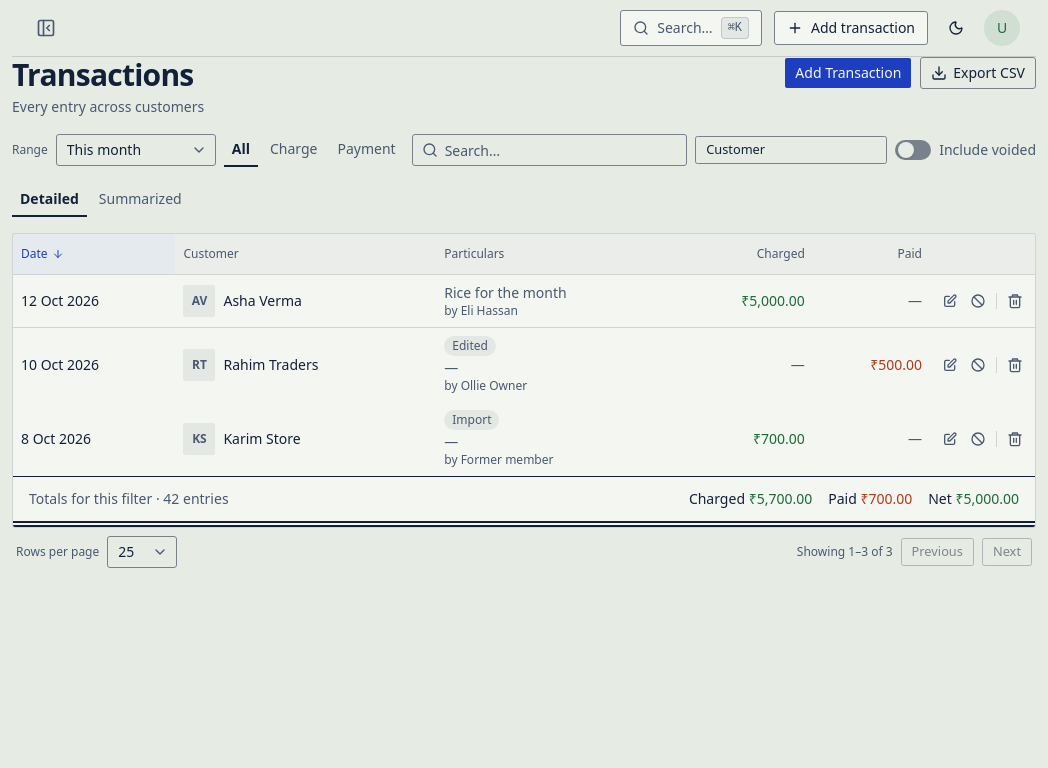
Test case: S-35 transactions page v2 › filters write to the URL and reach both queries (type, voided, text search)
The image size is (1048, 768).
// Type pill
Click the button "Payment" at (367, 150), box [330,133,404,167]
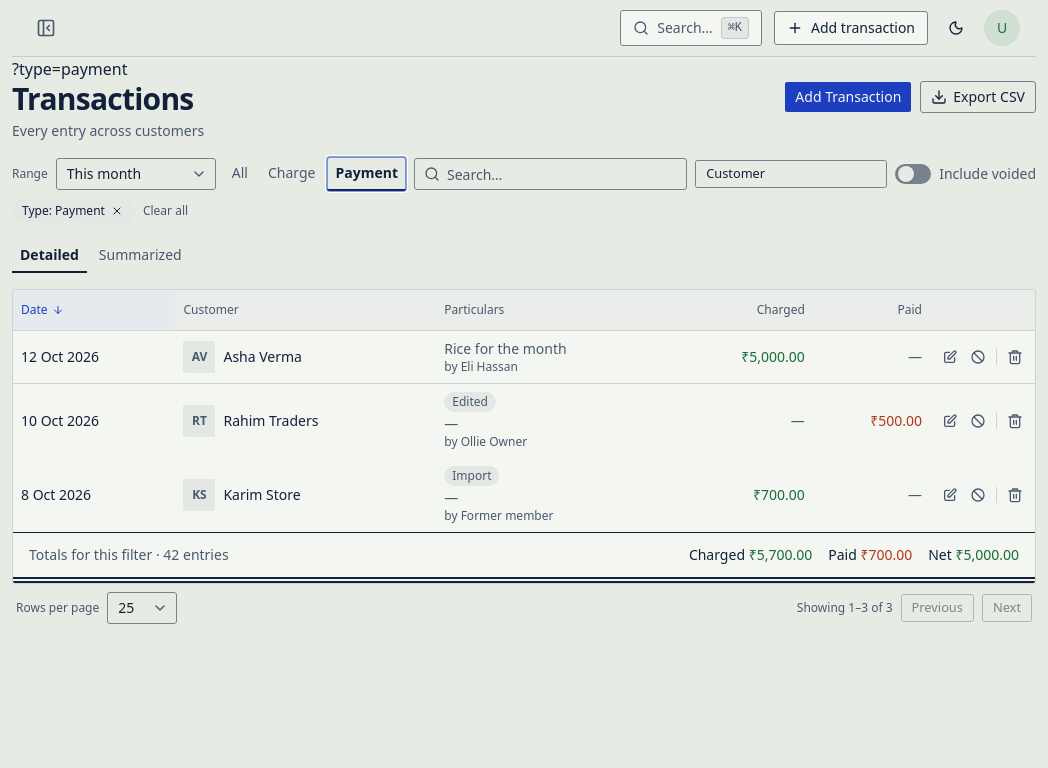
Now the text "Type: Payment" is shown, box [12,199,135,223]
Now the text with test id "url" shows "type=payment", box [12,58,128,80]
// Include voided — a switch since L-09.
Click the switch named "Include voided" at (913, 174), box [895,164,931,184]
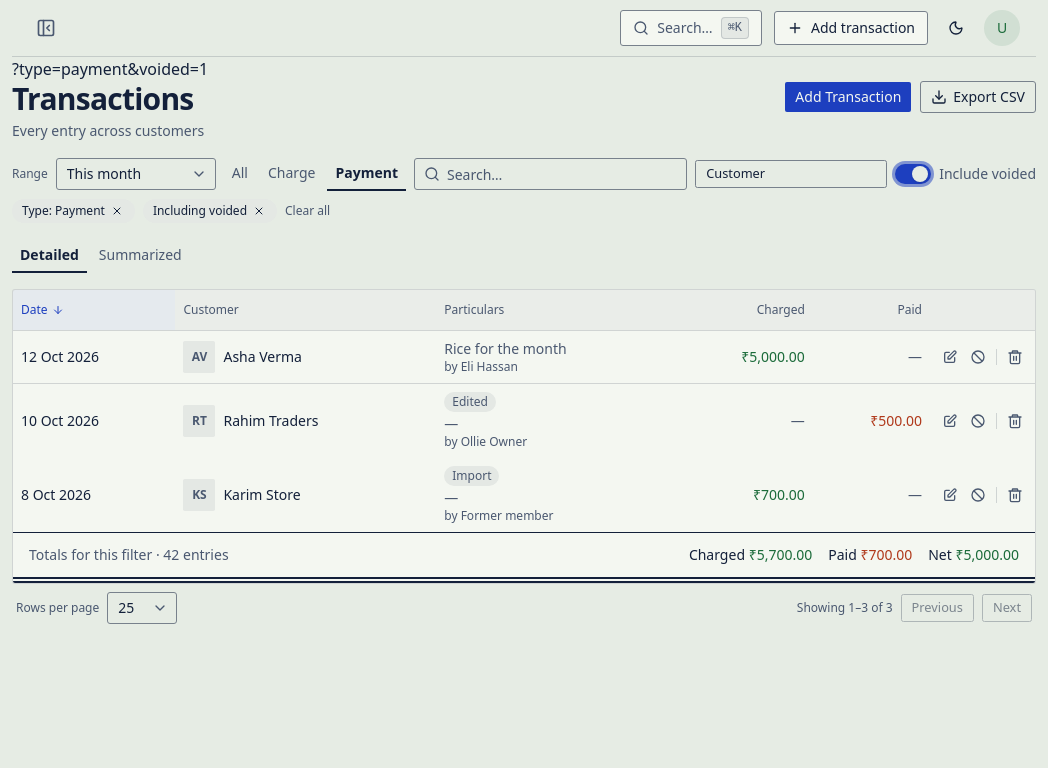
Now the text "Including voided" is shown, box [143,199,277,223]
Now the text with test id "url" shows "voided=1", box [12,58,208,80]
// Text search: SearchInput debounces its own callback.
Type "bKash" into the search field named "Search by customer, phone or note" at (551, 174), box [414,158,687,190]
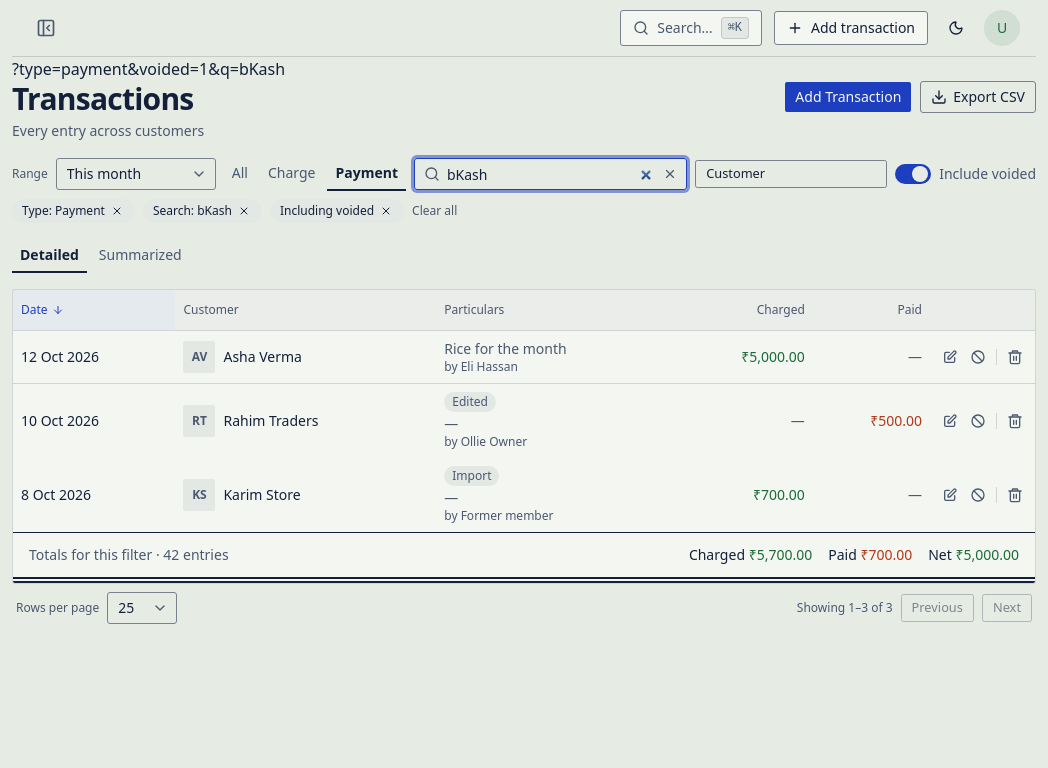
Now the text "Search: bKash" is shown, box [143,199,262,223]
Now the text with test id "url" shows "q=bKash", box [12,58,285,80]
